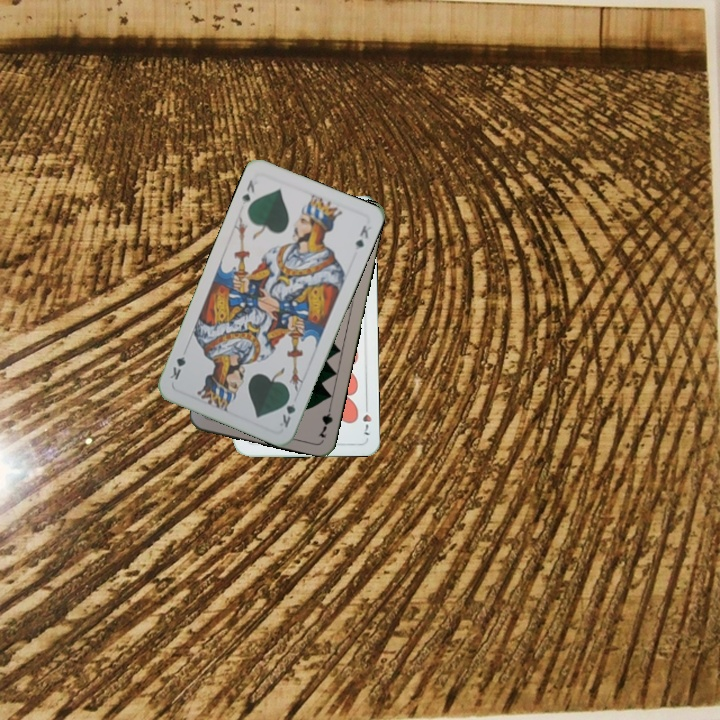G7: (314, 400, 335, 440)
GK: (275, 391, 298, 430), (238, 175, 258, 208)
H7: (359, 399, 374, 438)
